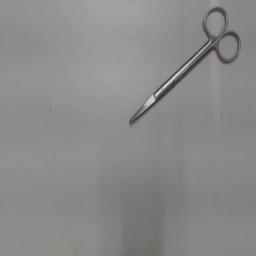Curved Mayo Scissors: (125, 5, 243, 129)
